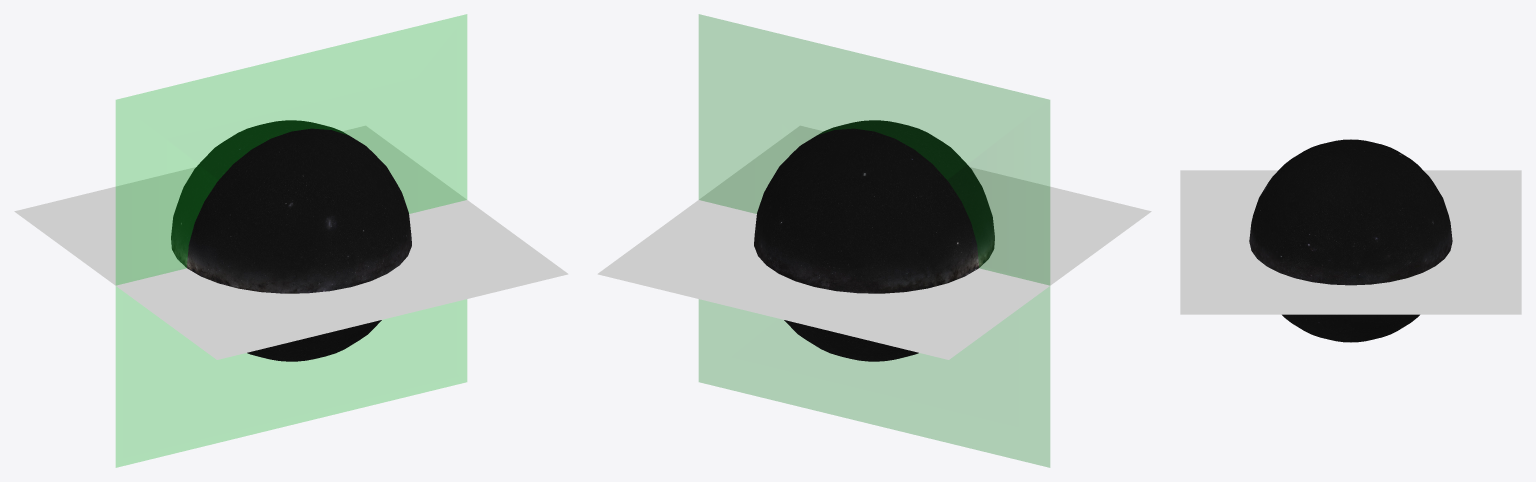
File: portal-1.glb
3 renders of one model, left to right at view 1: azimuth 30°, elevation 25°; view 2: azimuth 150°, elevation 25°; view 3: azimuth 270°, elevation 25°, orthographic. The views are drawn at different scales.
Parts seen in each view (by area): view 1: clip, skyOut, showIn, hideIn, skyIn; view 2: clip, skyIn, hideIn, showIn, skyOut; view 3: hideIn, showIn, skyOut, skyIn.
Part boxes in pixels (x1,y1,x2,y2): clip: (116, 14, 466, 467); skyOut: (187, 128, 411, 361); showIn: (116, 200, 568, 359); hideIn: (14, 125, 466, 285); skyIn: (171, 120, 348, 267); clip: (699, 14, 1049, 467); skyIn: (754, 128, 978, 361); hideIn: (597, 200, 1049, 359); showIn: (699, 125, 1151, 285); skyOut: (817, 120, 994, 267); hideIn: (1350, 170, 1521, 314); showIn: (1180, 170, 1350, 314); skyOut: (1249, 139, 1350, 342); skyIn: (1351, 139, 1452, 342).
Bounding box in the file's own units: 200 × 200 × 200.
11 materials, 4 textured.
